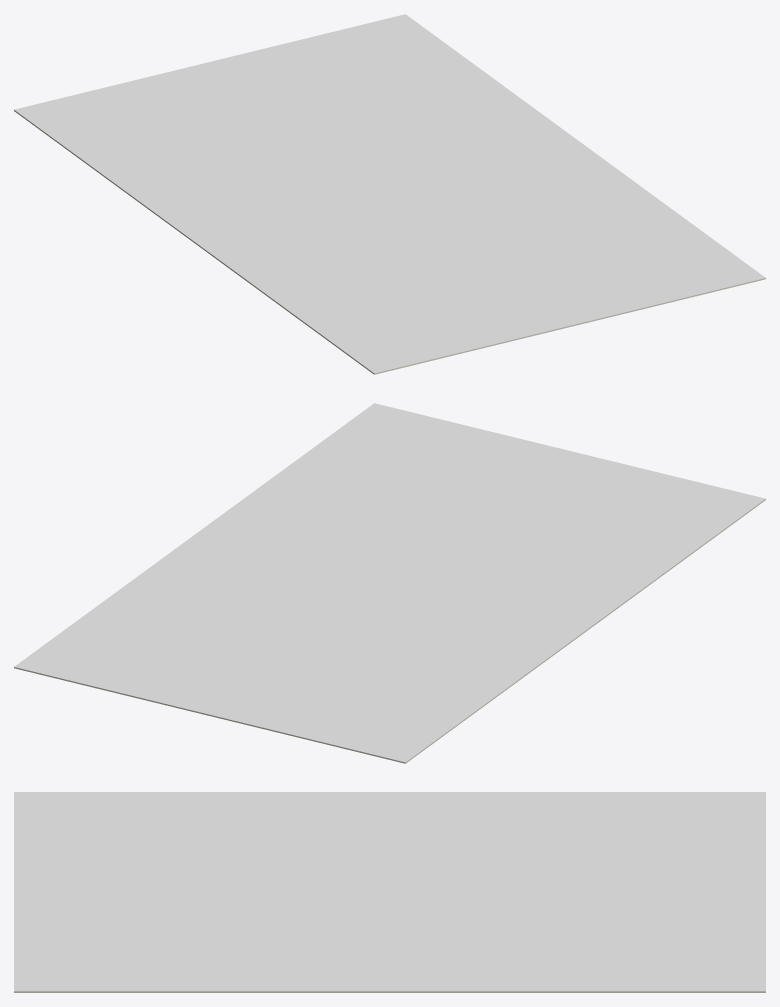
Rendered from Notenblatt.fbx.
3 views of the same model, one above another, from view 1: azimuth 30°, elevation 25°; view 2: azimuth 150°, elevation 25°; view 3: azimuth 270°, elevation 25° (orthographic). The views are drawn at different scales.
Visible parts, largest first — view 1: Notenblatt; view 2: Notenblatt; view 3: Notenblatt.
Part boxes in pixels (x1,y1,x2,y2): Notenblatt: (14,14,765,374); Notenblatt: (14,403,765,763); Notenblatt: (14,792,765,992).
Bounding box in the file's own units: 21.66 × 0.0708 × 34.52.
